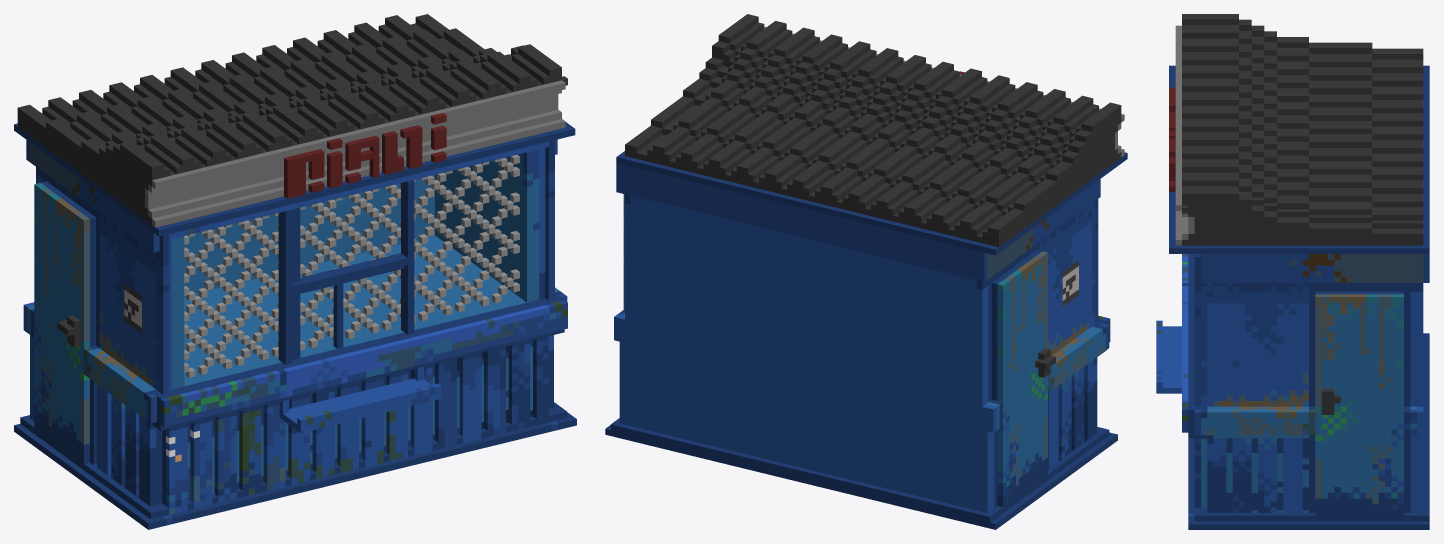
File: TESTOWANIE_VOXELA.obj
3 views of the same model, side by side, from view 1: azimuth 30°, elevation 25°; view 2: azimuth 150°, elevation 25°; view 3: azimuth 270°, elevation 25° (orthographic). The views are drawn at different scales.
Bounding box in the file's own units: 7.1 × 5.7 × 4.3.
Materials: 1 (1 with a texture image).
